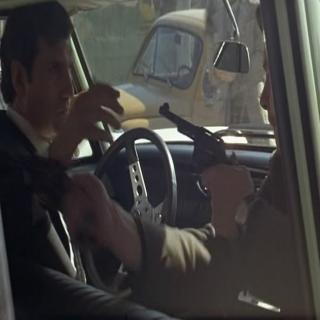gun: (159, 96, 252, 222)
